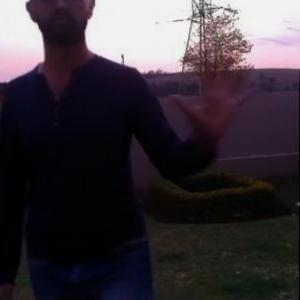follow_hand: (167, 43, 262, 144)
